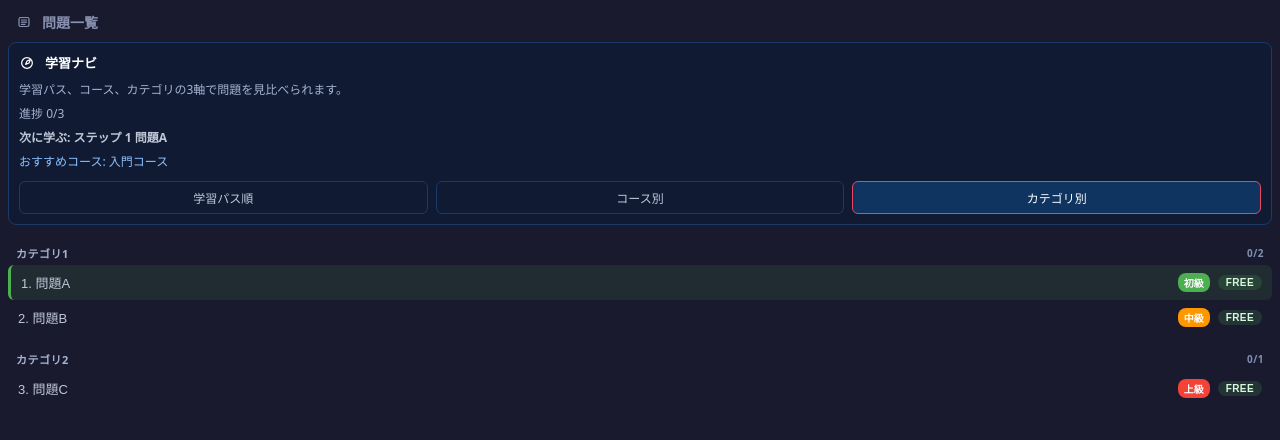
ProblemList › 学習パス順に切り替えるとステップ順に一覧表示する
Click the button "学習パス順": (223, 197) [19,180,428,214]
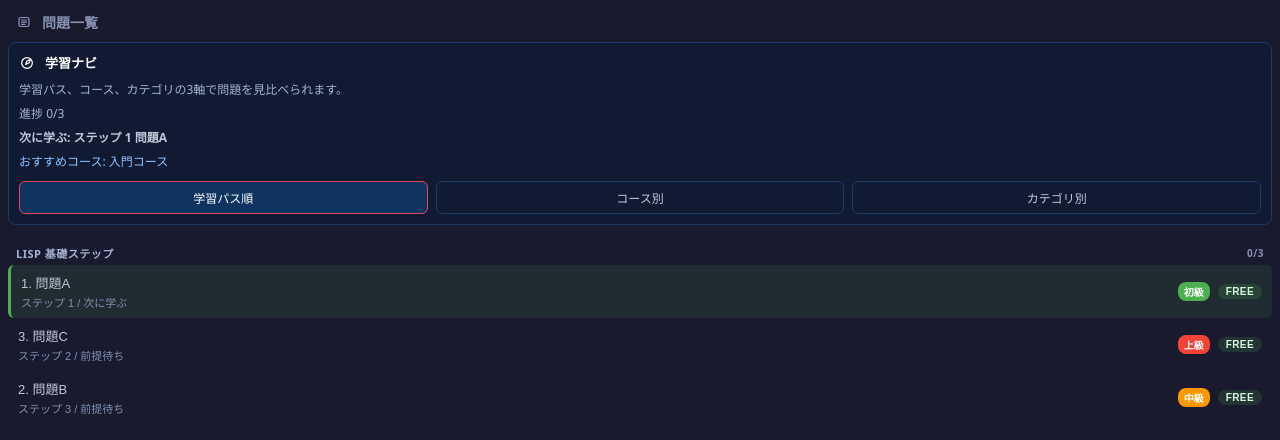
Check: the button "1. 問題A ステップ 1 / 次に学ぶ 初級 Free" is shown, box [8,264,1272,318]
Check: the button "3. 問題C ステップ 2 / 前提待ち 上級 Free" is shown, box [8,318,1272,370]
Check: the button "2. 問題B ステップ 3 / 前提待ち 中級 Free" is shown, box [8,370,1272,424]
